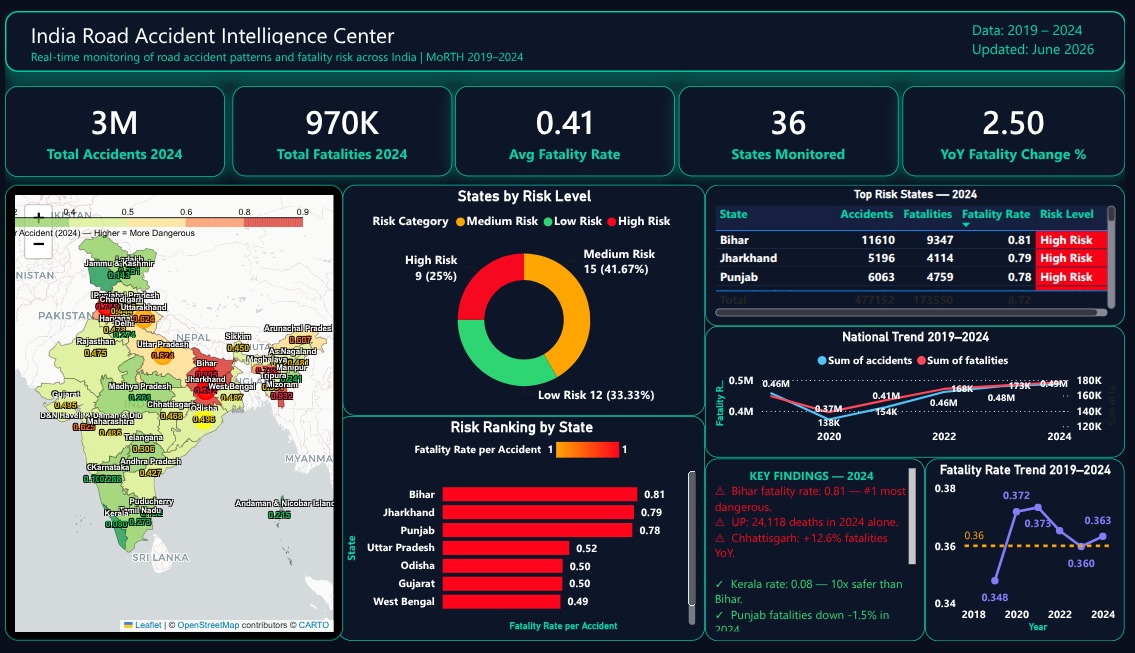

The page's visual inventory and layout, read from the dashboard file:
{"tool":"powerbi","page":{"name":"Page 1","canvas":[1280,720],"ordinal":0},"visuals":[{"type":"group","id":"g1","title":"Group 1","box":[0,0,1280.5,69.6],"z":0},{"type":"shape","box":[0,0,1280.5,69.6],"z":0,"group":"g1"},{"type":"textbox","box":[24.7,5,481,43.4],"z":1000,"group":"g1"},{"type":"cardVisual","fields":{"Data":["Sum(state_master.fatalities)"]},"box":[260.3,85.3,251.3,103.2],"z":1000},{"type":"textbox","box":[24.7,38.9,591,28.4],"z":2000,"group":"g1"},{"type":"cardVisual","fields":{"Data":["Avg(state_master.fatality_rate_per_accident)"]},"box":[514.6,85.3,251.3,103.2],"z":2000},{"type":"textbox","box":[1099.7,6,164.3,61.3],"z":3000,"group":"g1"},{"type":"cardVisual","fields":{"Data":["Count(state_master.state)"]},"box":[770,85.3,251.3,103.2],"z":3000},{"type":"cardVisual","fields":{"Data":["state_master.YoY Fatality Change %"]},"box":[1026.3,85.3,254.3,103.2],"z":4000},{"type":"donutChart","title":"States by Risk Level","fields":{"Category":["state_master.Risk Category"],"Y":["CountNonNull(state_master.state)"]},"box":[386.1,198.7,414.5,264],"z":5000},{"type":"tableEx","title":"Top Risk States — 2024","fields":{"Values":["state_master.state","Sum(state_master.accidents)","Sum(state_master.fatalities)","Sum(state_master.fatality_rate_per_accident)","state_master.Risk Category"]},"box":[800.7,198.7,479.8,161.8],"z":6000},{"type":"lineChart","title":"National Trend 2019–2024","fields":{"Category":["state_master.year"],"Y":["Sum(state_master.accidents)"],"Y2":["Sum(state_master.fatalities)"]},"box":[800.7,360.6,479.8,150.5],"z":7000},{"type":"textbox","box":[800.7,511.1,251.3,208.7],"z":9000},{"type":"lineChart","title":"Fatality Rate Trend 2019–2024","fields":{"Category":["state_master.year"],"Y":["state_master.National Fatality Rate"]},"box":[1052,511,228,209],"z":10000},{"type":"clusteredBarChart","title":"Risk Ranking by State","fields":{"Category":["state_master.state"],"Y":["Avg(state_master.fatality_rate_per_accident)"]},"box":[380.5,462.8,420.2,256.9],"z":11000},{"type":"cardVisual","fields":{"Data":["Sum(state_master.accidents)"]},"box":[0,85.2,251.3,103.6],"z":12000},{"type":"htmlContent443BE3AD55E043BF878BED274D3A6855","fields":{"content":["state_master.IndiaRiskMap"]},"box":[0,198.7,386.1,521],"z":12001}]}

Visuals, with their boxes in screenshot pixels (x1, y1, x2, y2), scaled from the page's 1280x720 canvas onto the 1135x653 screenshot:
"Group 1" group: 0,0,1134,63
shape: 0,0,1134,63
textbox: 22,5,448,44
cardVisual - Sum(state_master.fatalities): 231,77,454,171
textbox: 22,35,546,61
cardVisual - Avg(state_master.fatality_rate_per_accident): 456,77,679,171
textbox: 975,5,1121,61
cardVisual - Count(state_master.state): 683,77,906,171
cardVisual - state_master.YoY Fatality Change %: 910,77,1134,171
"States by Risk Level" donutChart: 342,180,710,420
"Top Risk States — 2024" tableEx: 710,180,1134,327
"National Trend 2019–2024" lineChart: 710,327,1134,464
textbox: 710,464,933,652
"Fatality Rate Trend 2019–2024" lineChart: 933,463,1134,652
"Risk Ranking by State" clusteredBarChart: 337,420,710,652
cardVisual - Sum(state_master.accidents): 0,77,223,171
htmlContent443BE3AD55E043BF878BED274D3A6855 - state_master.IndiaRiskMap: 0,180,342,652
